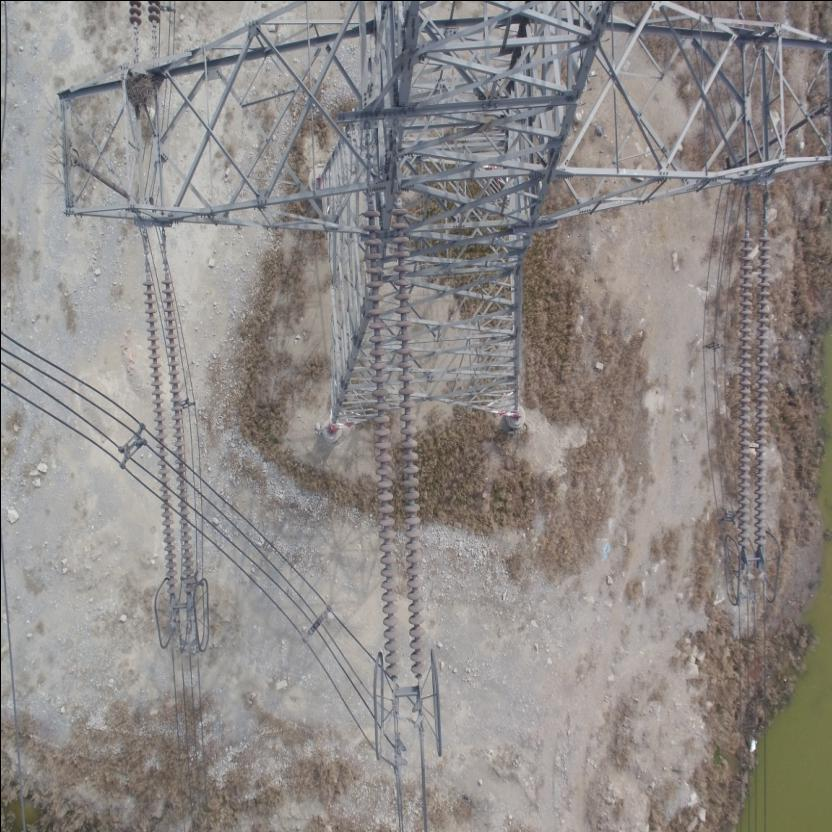insulator: (358, 168, 428, 694), (139, 255, 198, 607), (730, 218, 770, 552)
